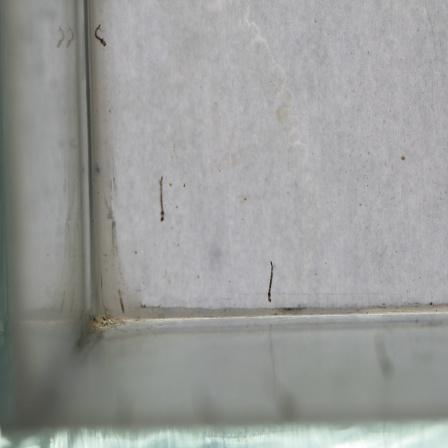Jentik-Nyamuk: (156, 173, 170, 228), (263, 256, 278, 304), (90, 22, 109, 52)
